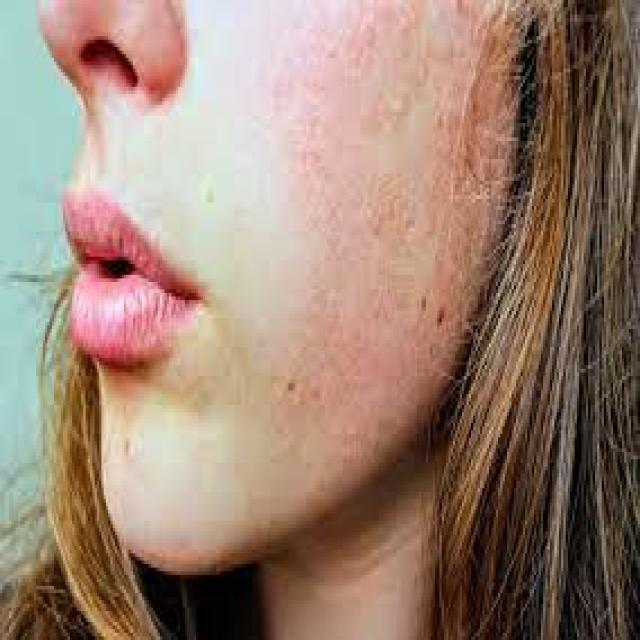oily: (22, 10, 146, 62)
